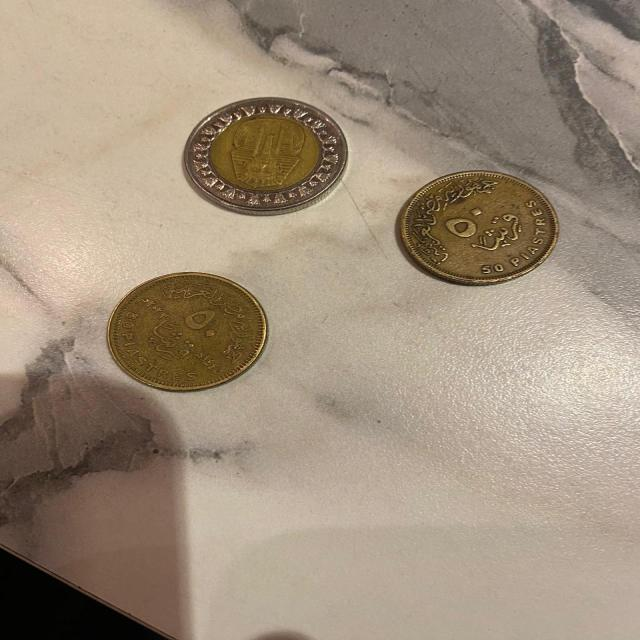Half Pound: (394, 165, 558, 296), (105, 267, 275, 393)
One Pound: (182, 94, 351, 215)
